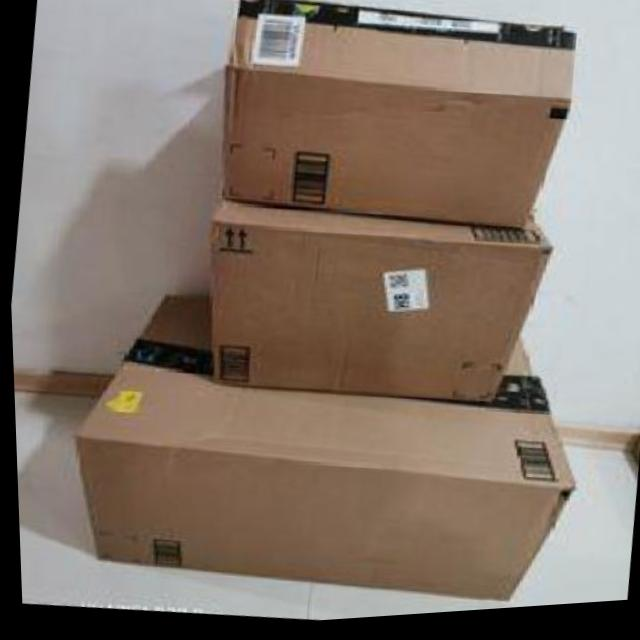box: (34, 252, 622, 639), (151, 166, 555, 457), (196, 0, 591, 270)
